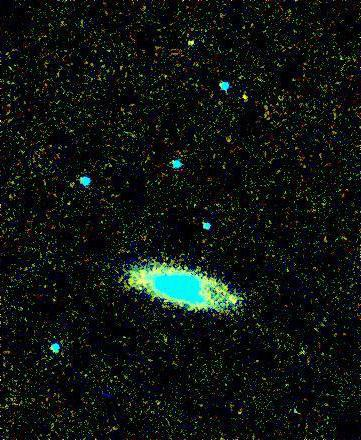star: (223, 81, 253, 111)
